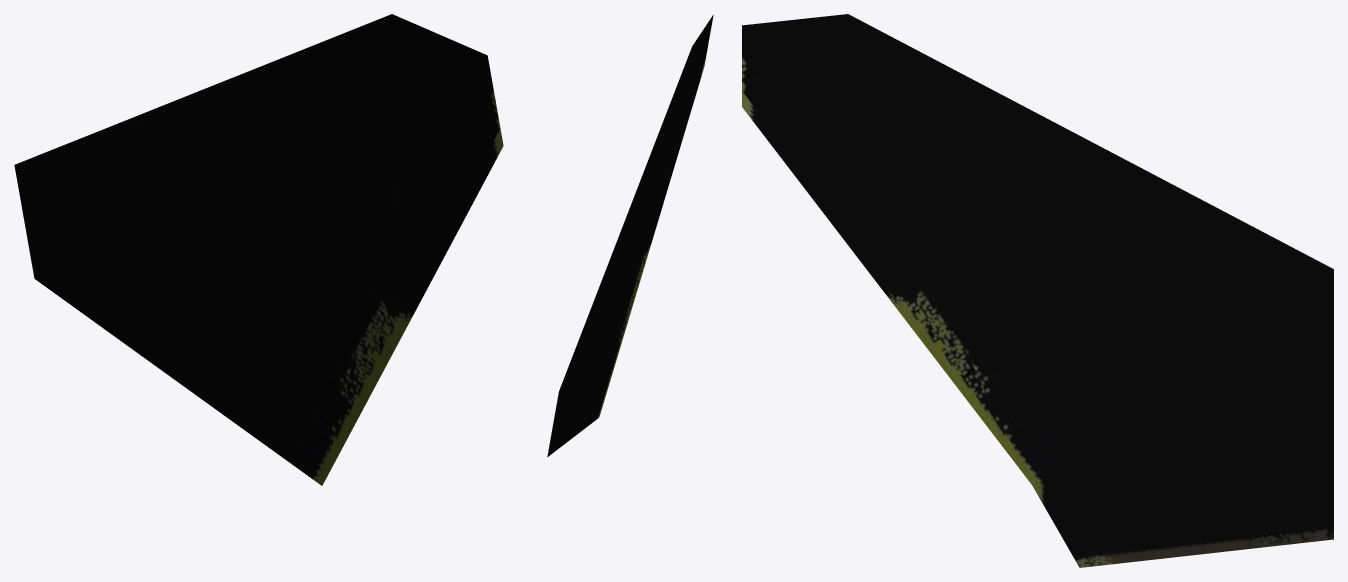
3 views of the same model, side by side, from view 1: azimuth 30°, elevation 25°; view 2: azimuth 150°, elevation 25°; view 3: azimuth 270°, elevation 25° (orthographic). The views are drawn at different scales.
Bounding box in the file's own units: 1.09 × 5.9 × 5.9.
Materials: 2 (2 with a texture image).
